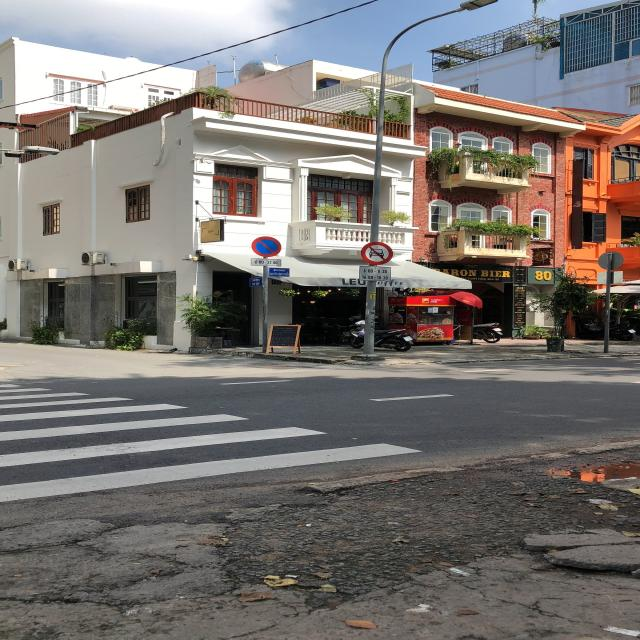Bien bao cam do xe: (250, 235, 280, 258)
Bien bao cam xe oto: (361, 240, 394, 266)
